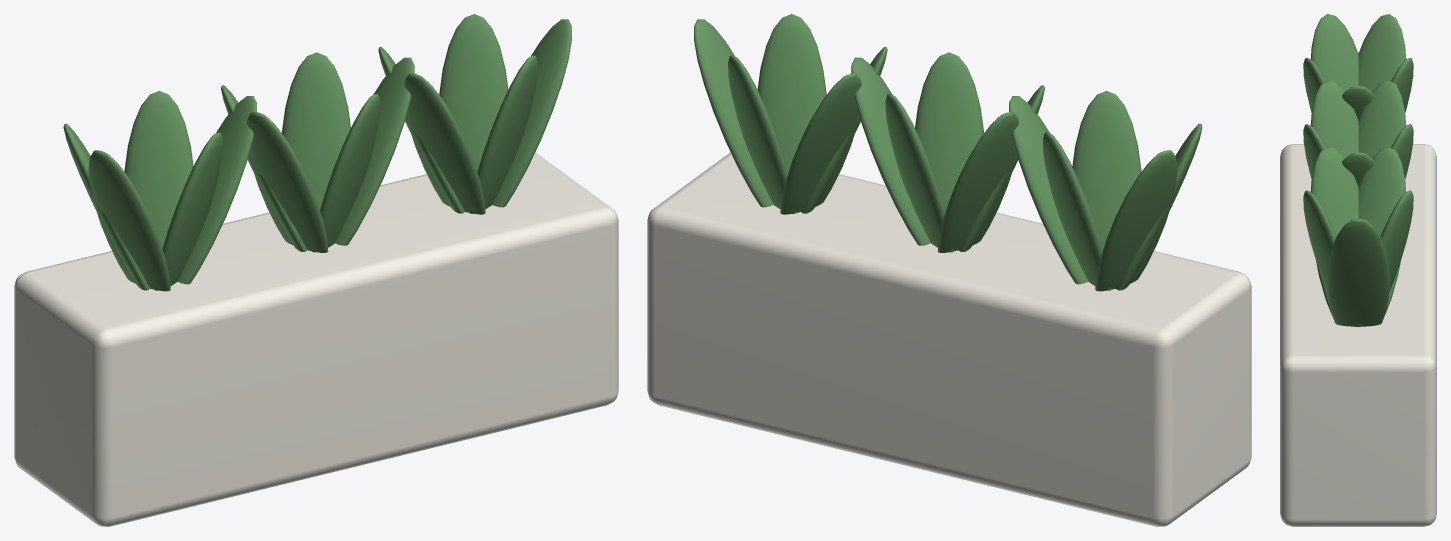
Rendered from atelier-outdoor-planter.glb.
3 renders of one model, left to right at view 1: azimuth 30°, elevation 25°; view 2: azimuth 150°, elevation 25°; view 3: azimuth 270°, elevation 25°, orthographic. The views are drawn at different scales.
Visible parts, largest first — view 1: ceramic.058, leaf.020; view 2: ceramic.058, leaf.020; view 3: ceramic.058, leaf.020.
Part boxes in pixels (bbox=[...]): ceramic.058: bbox=[14, 152, 618, 526]; leaf.020: bbox=[63, 14, 571, 291]; ceramic.058: bbox=[647, 152, 1251, 526]; leaf.020: bbox=[694, 14, 1202, 291]; ceramic.058: bbox=[1280, 144, 1436, 526]; leaf.020: bbox=[1303, 14, 1413, 326].
Bounding box in the file's own units: 1 × 0.65 × 0.3.
